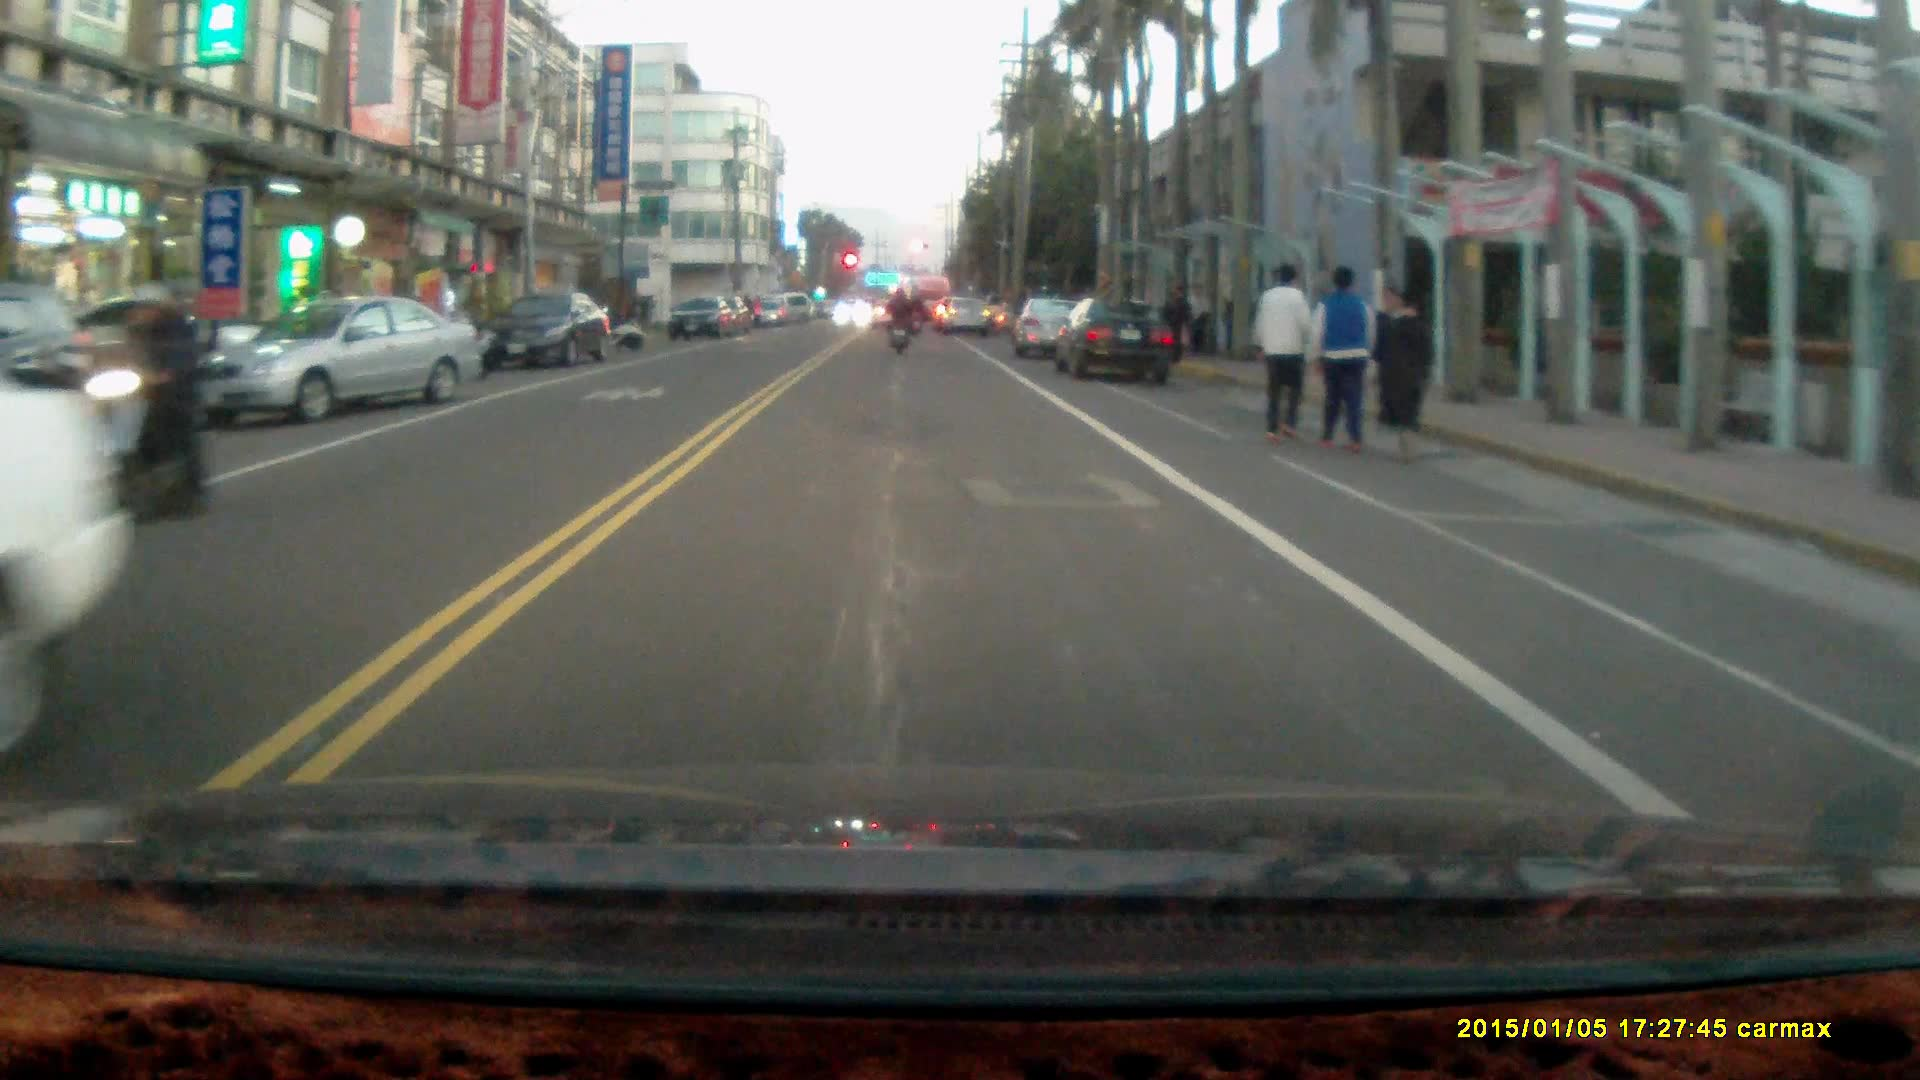pedestrian: (1303, 262, 1378, 457), (1253, 260, 1315, 444), (1380, 284, 1438, 458), (1160, 279, 1196, 361), (1182, 278, 1212, 360)
rider: (63, 277, 211, 538), (882, 283, 913, 354)
vehicle: (195, 293, 487, 420), (1055, 293, 1179, 381), (491, 287, 613, 368), (1017, 297, 1087, 360), (667, 298, 741, 344)
